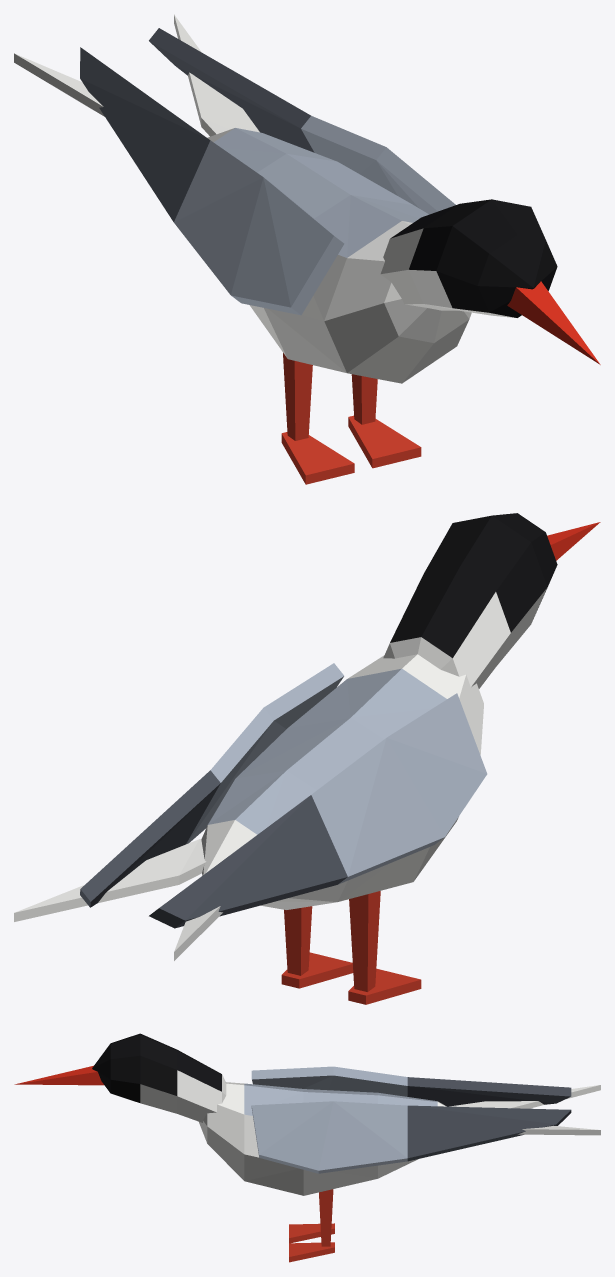
Rendered from tern.obj.
The picture shows the model from 3 angles, top to bottom: view 1: azimuth 30°, elevation 25°; view 2: azimuth 150°, elevation 25°; view 3: azimuth 270°, elevation 25°; orthographic projection. The views are drawn at different scales.
Parts seen in each view (by area): view 1: body, wing_r, head, wing_l, leg_r, tail, leg_l; view 2: wing_r, body, head, wing_l, tail, leg_r, leg_l; view 3: wing_l, body, head, wing_r, tail, leg_l, leg_r.
Boxes of the visible parts, x1,y1,x2,y2 form: body: (207,128,471,383); wing_r: (80,47,344,315); head: (380,199,600,364); wing_l: (149,28,455,214); leg_r: (281,353,354,484); tail: (14,14,259,136); leg_l: (348,374,421,468); wing_r: (149,693,487,928); body: (201,654,483,909); head: (383,513,600,688); wing_l: (80,663,343,907); tail: (14,839,222,960); leg_r: (348,891,421,1004); leg_l: (281,906,353,988); wing_l: (251,1101,571,1173); body: (199,1082,446,1195); head: (14,1033,226,1122); wing_r: (251,1066,571,1106); tail: (449,1085,600,1135); leg_l: (289,1189,334,1262); leg_r: (289,1223,334,1243).
Size of the model in its own units: 0.1506 by 0.2453 by 0.6172.
